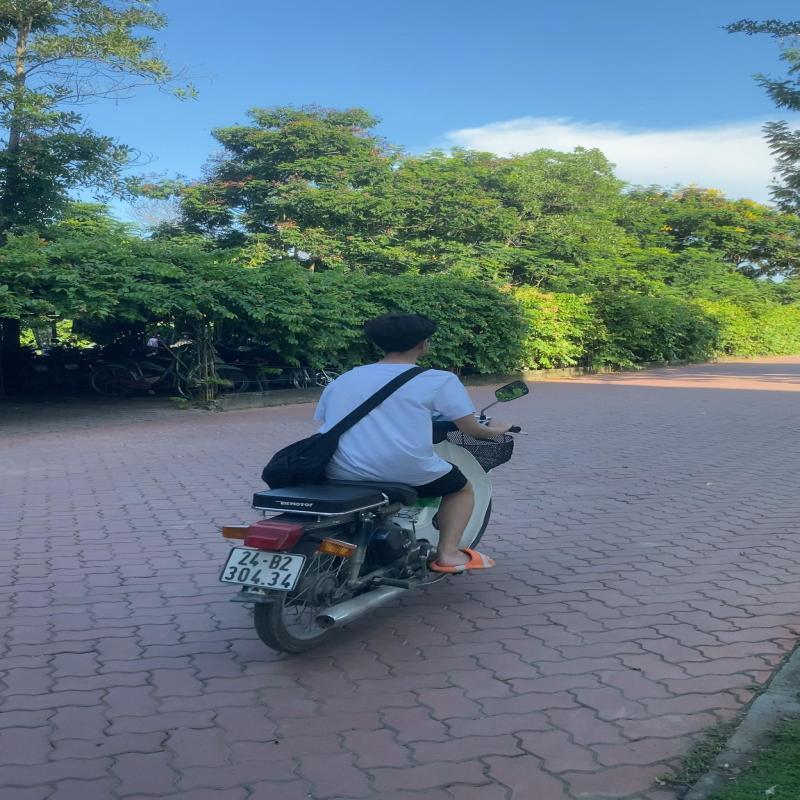licenseplate: (215, 546, 310, 593)
motorcyclist: (220, 310, 519, 655)
nohelmet: (360, 312, 440, 362)
